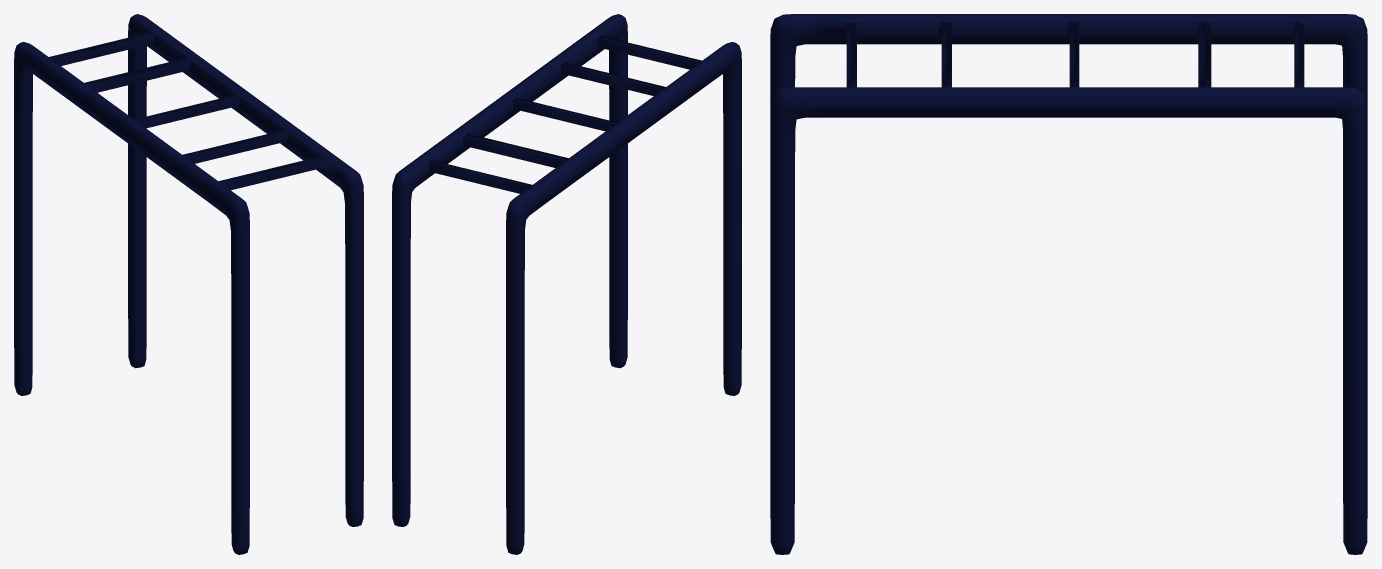
The model's file is park bars.fbx.
The picture shows the model from 3 angles, left to right: view 1: azimuth 30°, elevation 25°; view 2: azimuth 150°, elevation 25°; view 3: azimuth 270°, elevation 25°; orthographic projection. The views are drawn at different scales.
Parts seen in each view (by area): view 1: Cube.035; view 2: Cube.035; view 3: Cube.035.
Part boxes in pixels (x1,y1,x2,y2): Cube.035: (14, 14, 363, 554); Cube.035: (392, 14, 741, 554); Cube.035: (770, 14, 1367, 554).
Bounding box in the file's own units: 2.73 × 7.02 × 8.19.
